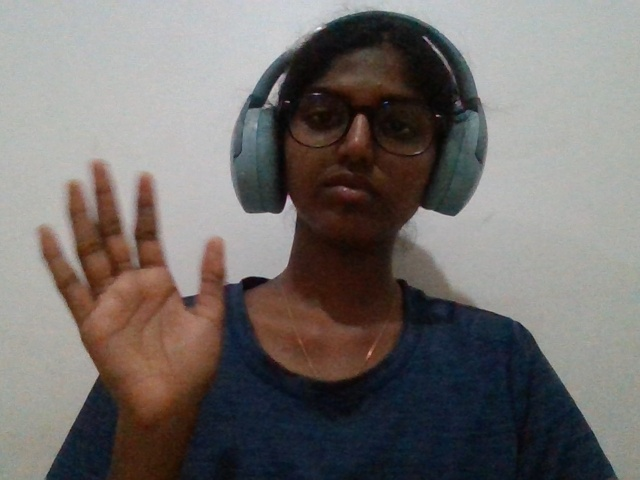Bye: (17, 141, 234, 468)
